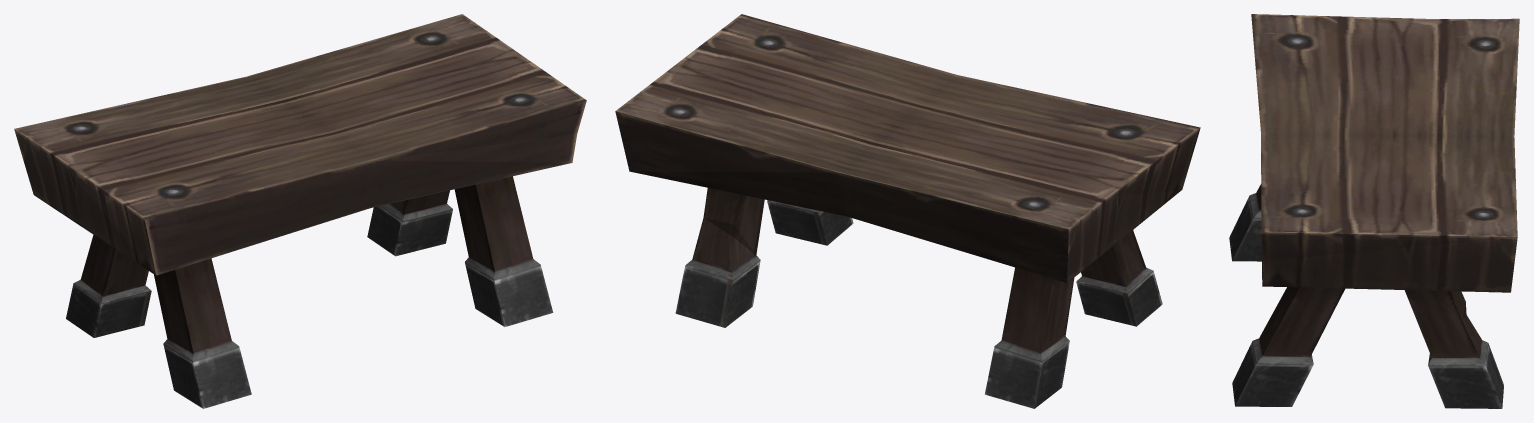
The model's file is zhuozi.FBX.
The picture shows the model from 3 angles, left to right: view 1: azimuth 30°, elevation 25°; view 2: azimuth 150°, elevation 25°; view 3: azimuth 270°, elevation 25°; orthographic projection. The views are drawn at different scales.
Parts seen in each view (by area): view 1: 对象008; view 2: 对象008; view 3: 对象008.
Part boxes in pixels (x1,y1,x2,y2): 对象008: (14, 14, 586, 408); 对象008: (615, 14, 1200, 408); 对象008: (1229, 14, 1519, 408).
Bounding box in the file's own units: 2.8 × 1.23 × 1.53.
